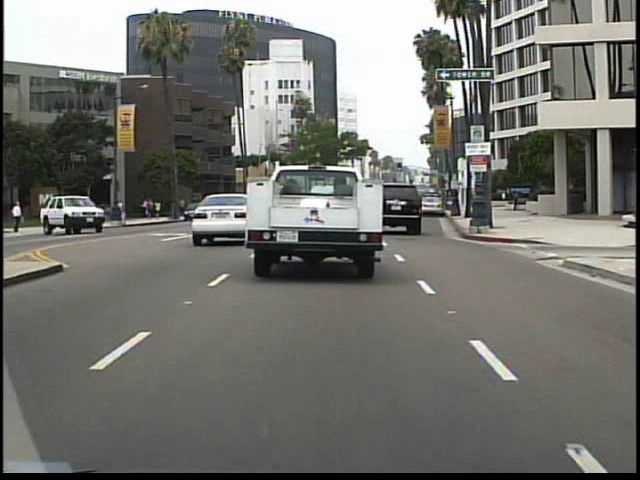person: (70, 191, 86, 228), (12, 195, 27, 234), (64, 198, 80, 232), (112, 193, 129, 224)
